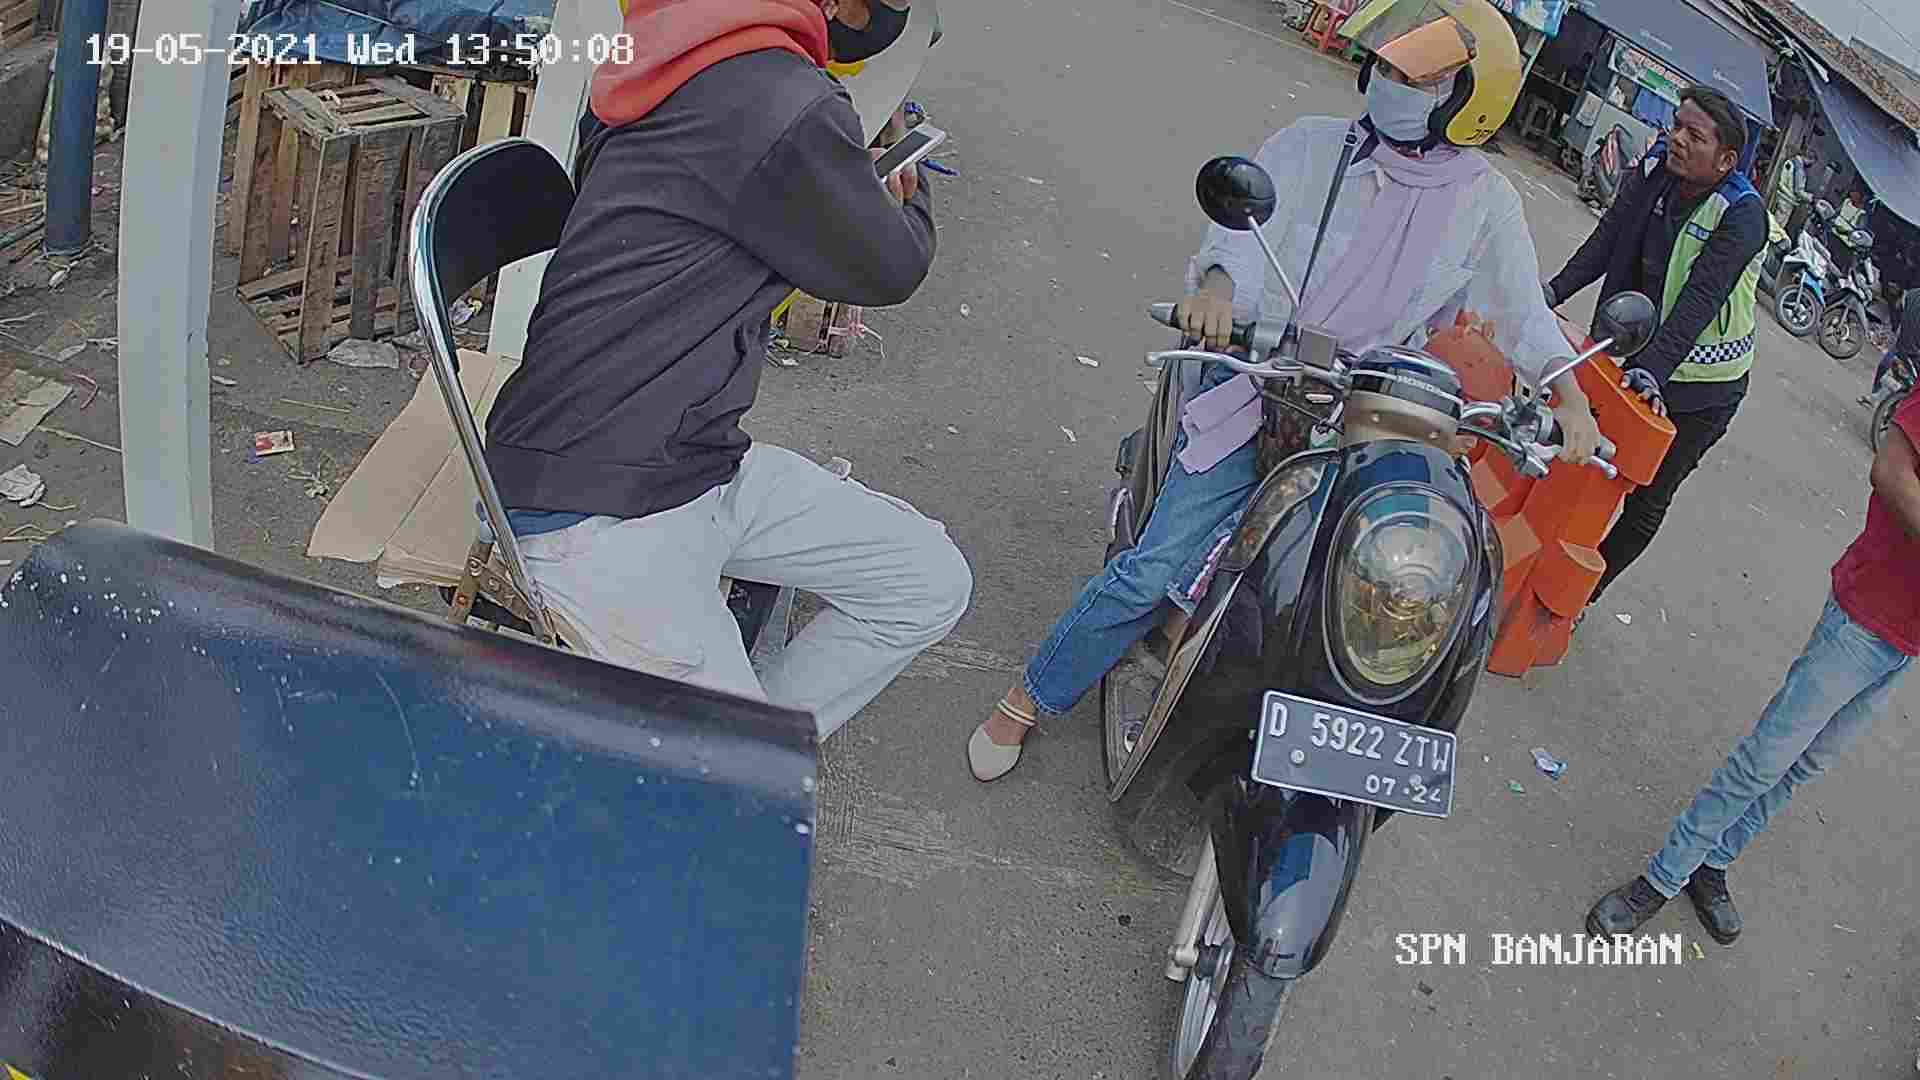motor: (1120, 306, 1513, 1080)
